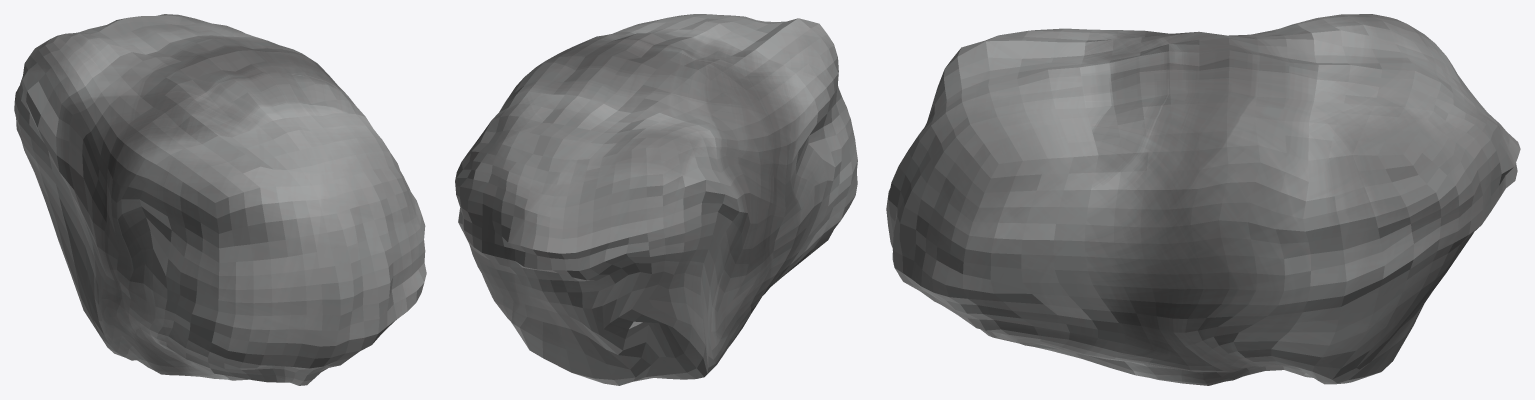
The model's file is rock3.fbx.
3 views of the same model, side by side, from view 1: azimuth 30°, elevation 25°; view 2: azimuth 150°, elevation 25°; view 3: azimuth 270°, elevation 25° (orthographic). The views are drawn at different scales.
Parts seen in each view (by area): view 1: Cube; view 2: Cube; view 3: Cube.
Part boxes in pixels (box(x1,y1,x2,y2)): Cube: box(14, 14, 426, 385); Cube: box(455, 14, 857, 385); Cube: box(886, 14, 1520, 385).
Size of the model in its own units: 3.02 by 3.41 by 5.59.
1 material, 1 textured.
